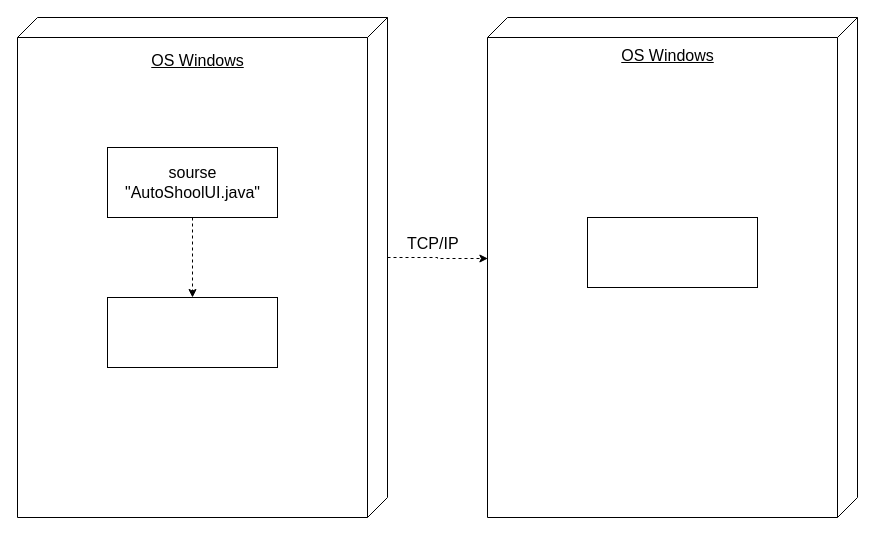
This 875x535 diagram has some shape labels left out. The centre of each missing label's shape, as x and y in pixels:
sourse "Client.java": pixel 192 332
sourse "Server.java": pixel 672 252
